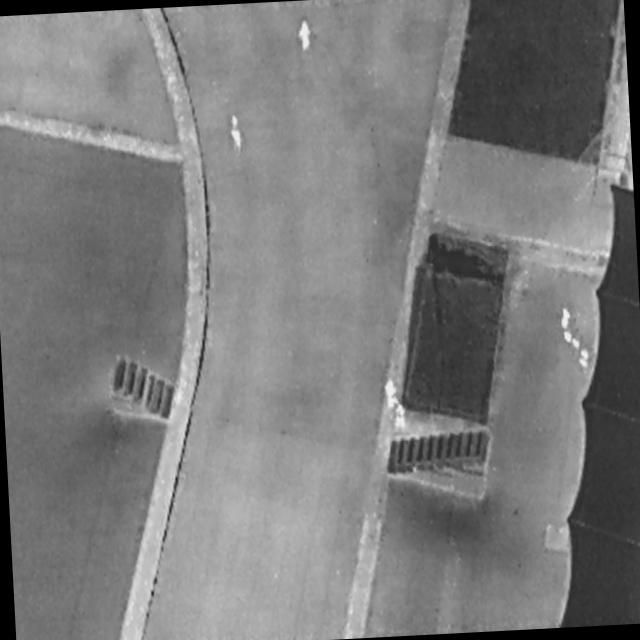person: (227, 113, 244, 153), (297, 21, 314, 53), (385, 377, 398, 412), (395, 403, 409, 431)
